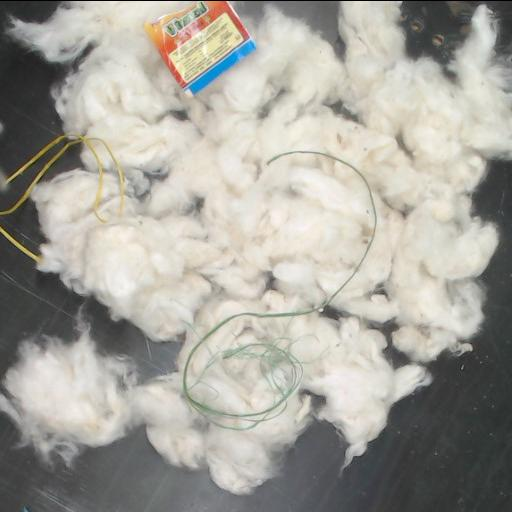conveyor belt: (0, 162, 511, 512), (0, 235, 83, 374), (0, 1, 66, 172), (87, 300, 176, 373), (236, 1, 342, 48), (402, 1, 472, 62), (2, 201, 41, 251), (46, 147, 79, 176)
cotton: (0, 1, 511, 494)
packet: (145, 1, 254, 94)
thread: (181, 150, 377, 430), (0, 134, 126, 219), (0, 219, 41, 262)
